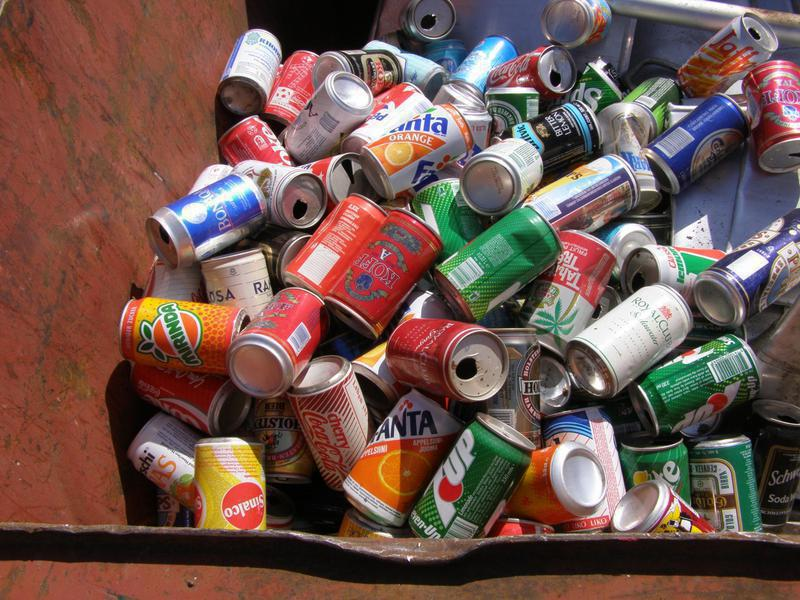can: (562, 278, 695, 405), (428, 203, 566, 325), (406, 413, 537, 541), (322, 207, 445, 343), (629, 332, 767, 438), (143, 171, 271, 274), (380, 314, 514, 410), (223, 282, 330, 400), (643, 89, 756, 199), (360, 99, 474, 202), (111, 293, 250, 371), (676, 10, 783, 100), (526, 153, 642, 233), (184, 434, 278, 530), (278, 67, 375, 160), (689, 432, 770, 535), (736, 57, 800, 175), (457, 134, 546, 218), (211, 25, 286, 113)
